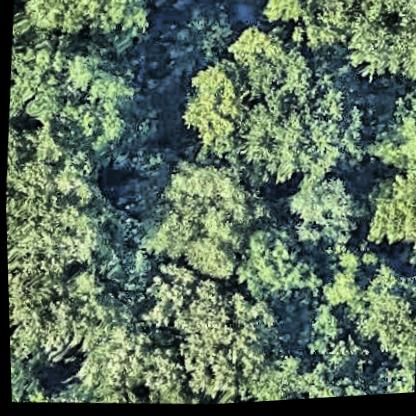tree-top: (137, 155, 262, 283), (260, 0, 416, 96), (165, 274, 279, 400), (3, 141, 117, 264), (237, 85, 359, 191), (29, 38, 135, 151), (6, 253, 87, 364), (71, 308, 167, 395), (173, 59, 251, 154), (350, 257, 416, 364), (230, 224, 317, 305), (280, 171, 363, 252), (244, 356, 371, 405), (21, 0, 158, 42), (360, 169, 416, 254), (367, 87, 416, 176), (292, 312, 359, 377), (312, 257, 365, 317), (370, 361, 414, 399)
